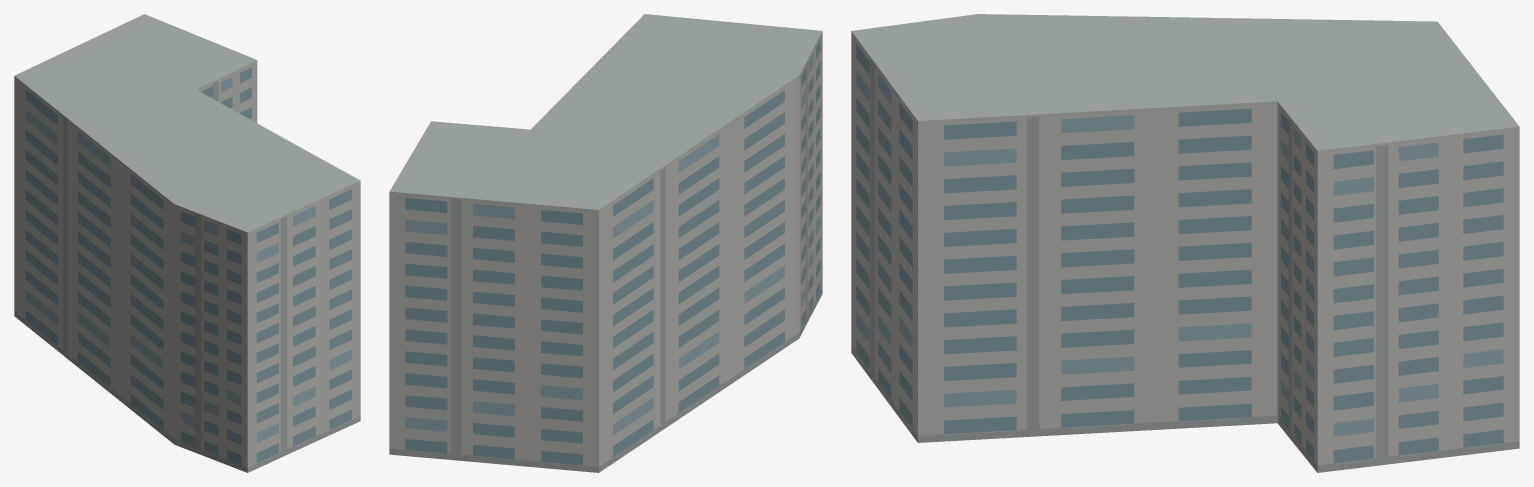
Rendered from residential-731fe92a-eb23-4635-9a9b-fcc1fbf8dc0c.glb.
3 views of the same model, side by side, from view 1: azimuth 30°, elevation 25°; view 2: azimuth 150°, elevation 25°; view 3: azimuth 270°, elevation 25° (orthographic). The views are drawn at different scales.
Visible parts, largest first — view 1: residential-731fe92a-eb23-4635-9a9b-fcc1fbf8dc0c.tmp; view 2: residential-731fe92a-eb23-4635-9a9b-fcc1fbf8dc0c.tmp; view 3: residential-731fe92a-eb23-4635-9a9b-fcc1fbf8dc0c.tmp.
Boxes of the visible parts, bbox=[...] form: residential-731fe92a-eb23-4635-9a9b-fcc1fbf8dc0c.tmp: bbox=[14, 14, 360, 472]; residential-731fe92a-eb23-4635-9a9b-fcc1fbf8dc0c.tmp: bbox=[389, 14, 822, 472]; residential-731fe92a-eb23-4635-9a9b-fcc1fbf8dc0c.tmp: bbox=[851, 14, 1519, 472].
Bounding box in the file's own units: 30.13 × 33 × 62.09.
